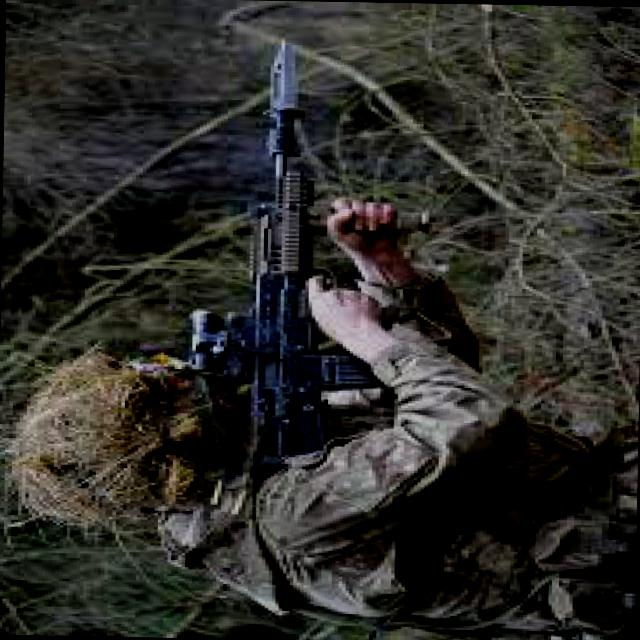long weapon: (183, 29, 364, 466)
